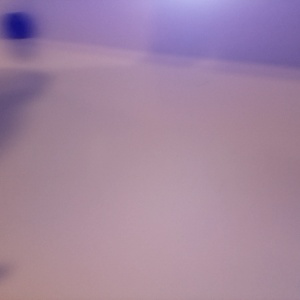dead_ball: (3, 11, 34, 38)
